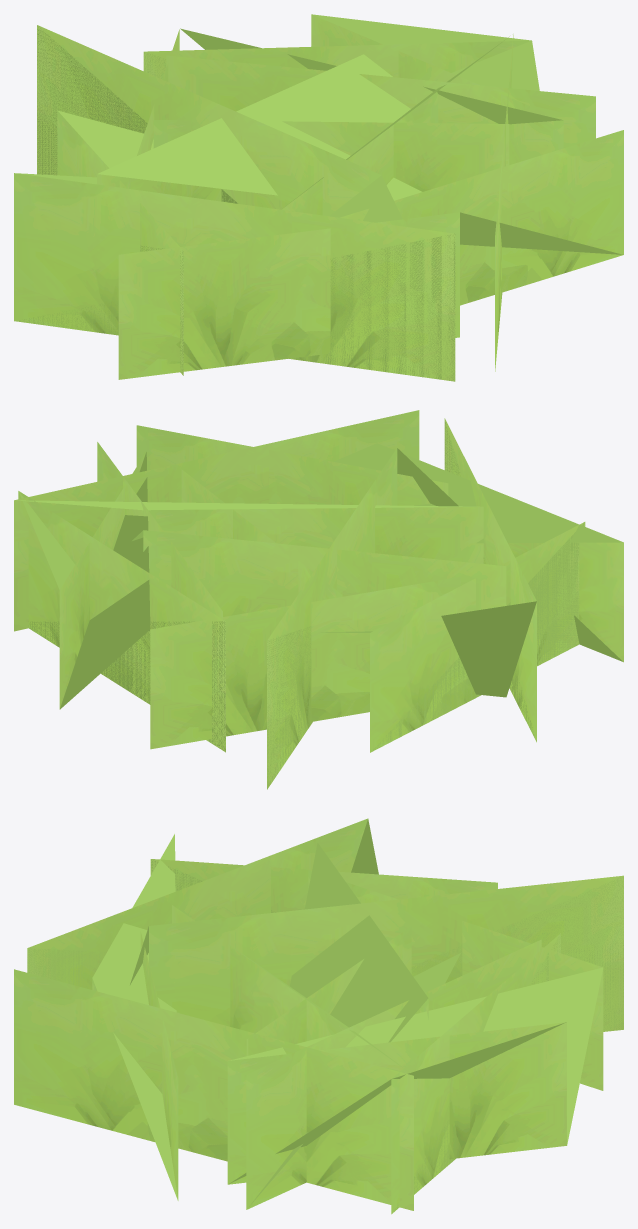
Rendered from SM_Env_Grass_Med_Clump_03.glb.
The picture shows the model from 3 angles, top to bottom: view 1: azimuth 30°, elevation 25°; view 2: azimuth 150°, elevation 25°; view 3: azimuth 270°, elevation 25°; orthographic projection. The views are drawn at different scales.
Parts seen in each view (by area): view 1: SM_Env_Grass_Med_Clump_03; view 2: SM_Env_Grass_Med_Clump_03; view 3: SM_Env_Grass_Med_Clump_03.
Boxes of the visible parts, bbox=[...] form: SM_Env_Grass_Med_Clump_03: bbox=[14, 14, 623, 381]; SM_Env_Grass_Med_Clump_03: bbox=[14, 410, 623, 789]; SM_Env_Grass_Med_Clump_03: bbox=[14, 818, 623, 1214].
Size of the model in its own units: 1.72 by 0.5102 by 1.73.
1 material, 1 textured.
